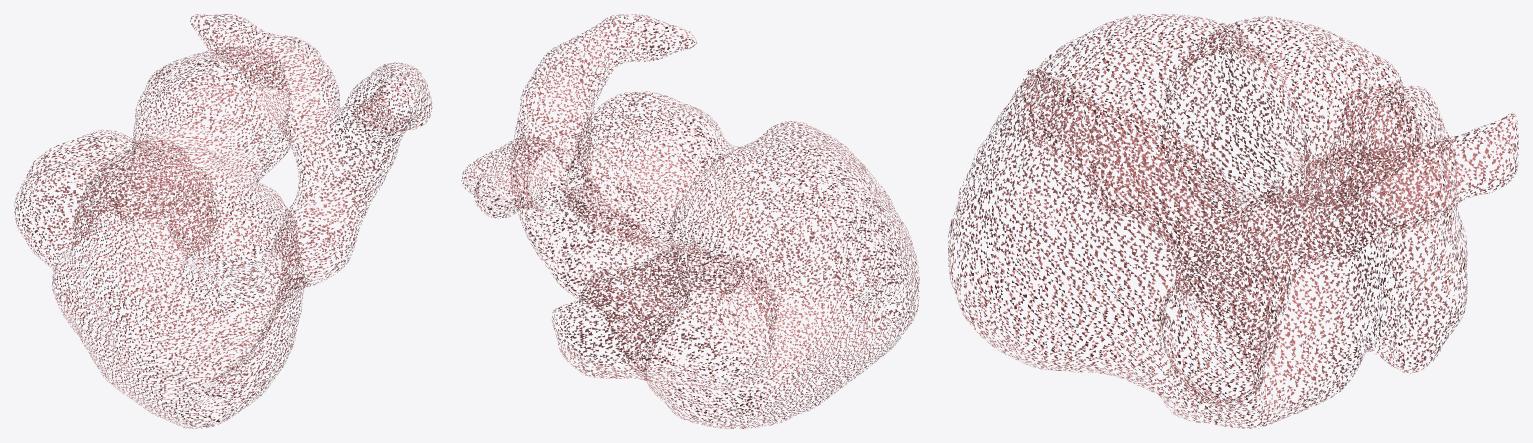
Rendered from heart.glb.
The picture shows the model from 3 angles, left to right: view 1: azimuth 30°, elevation 25°; view 2: azimuth 150°, elevation 25°; view 3: azimuth 270°, elevation 25°; orthographic projection. The views are drawn at different scales.
Size of the model in its own units: 132 by 111 by 134.
